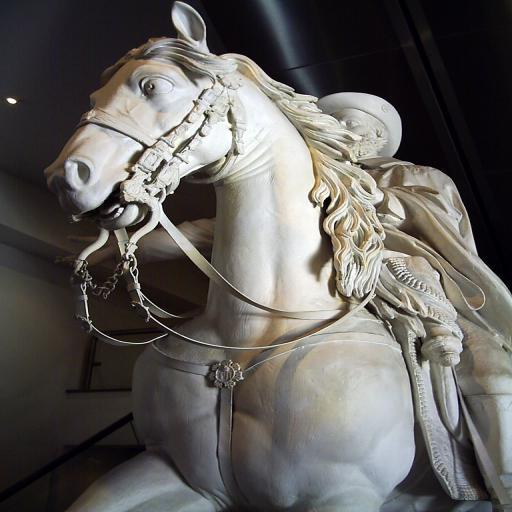horse: (41, 0, 491, 512)
